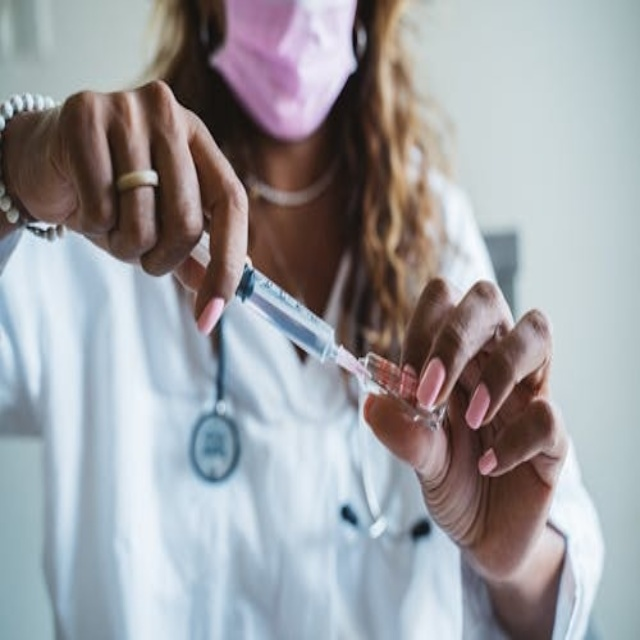Mascara: (206, 0, 364, 142)
Sin_guantes: (363, 270, 572, 576), (0, 77, 249, 317)
